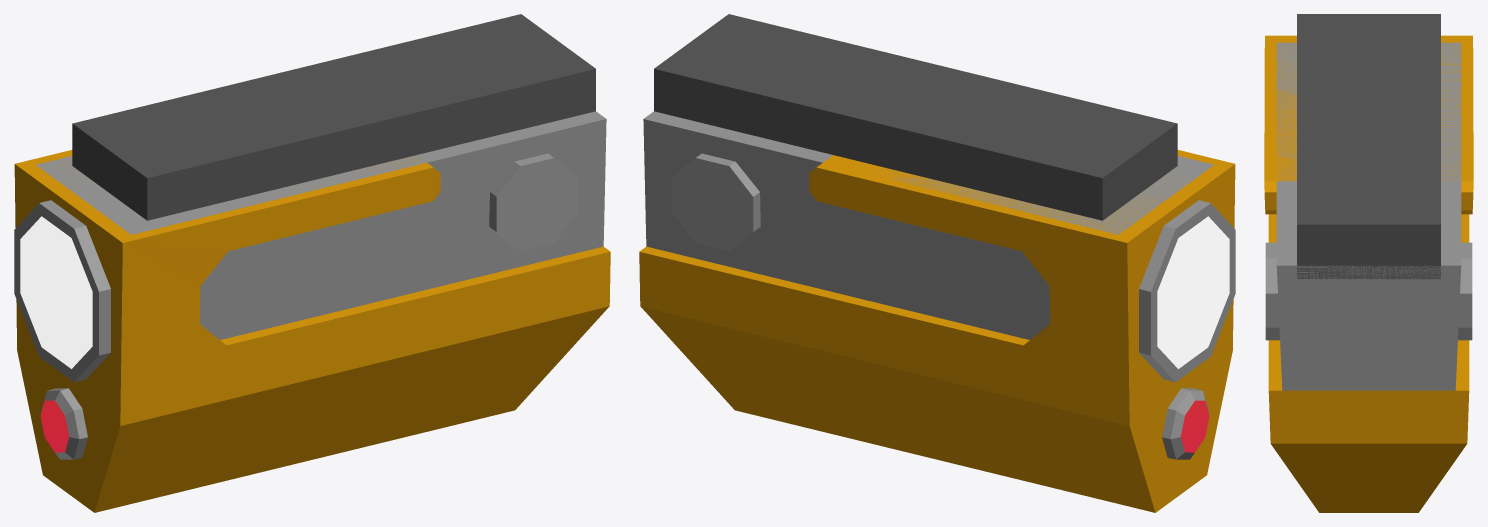
The model's file is SM_LaserComboS.fbx.
3 renders of one model, left to right at view 1: azimuth 30°, elevation 25°; view 2: azimuth 150°, elevation 25°; view 3: azimuth 270°, elevation 25°, orthographic. The views are drawn at different scales.
Parts seen in each view (by area): view 1: SM_LaserComboS; view 2: SM_LaserComboS; view 3: SM_LaserComboS.
Boxes of the visible parts, x1=… form: SM_LaserComboS: x1=14, y1=14, x2=610, y2=512; SM_LaserComboS: x1=639, y1=14, x2=1235, y2=512; SM_LaserComboS: x1=1264, y1=14, x2=1473, y2=512.
Bounding box in the file's own units: 6.16 × 3.89 × 2.3.
